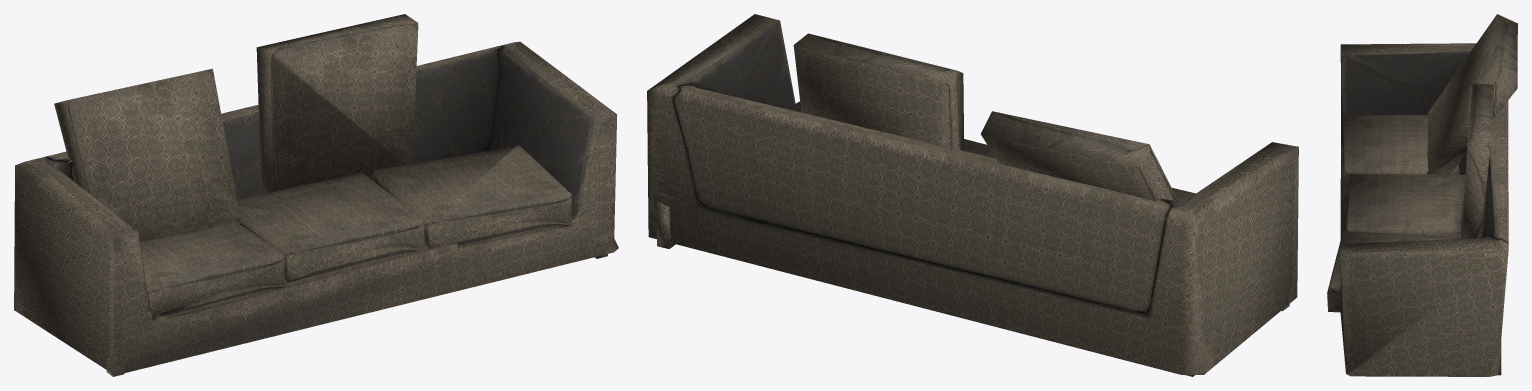
The model's file is Sofa3_Lowpoly.fbx.
3 views of the same model, side by side, from view 1: azimuth 30°, elevation 25°; view 2: azimuth 150°, elevation 25°; view 3: azimuth 270°, elevation 25° (orthographic). The views are drawn at different scales.
Parts seen in each view (by area): view 1: Sofa3_Lowpoly; view 2: Sofa3_Lowpoly; view 3: Sofa3_Lowpoly.
Boxes of the visible parts, x1,y1,x2,y2 form: Sofa3_Lowpoly: (14,14,618,376); Sofa3_Lowpoly: (647,14,1298,376); Sofa3_Lowpoly: (1327,14,1517,376).
Bounding box in the file's own units: 258 × 102 × 96.13.
